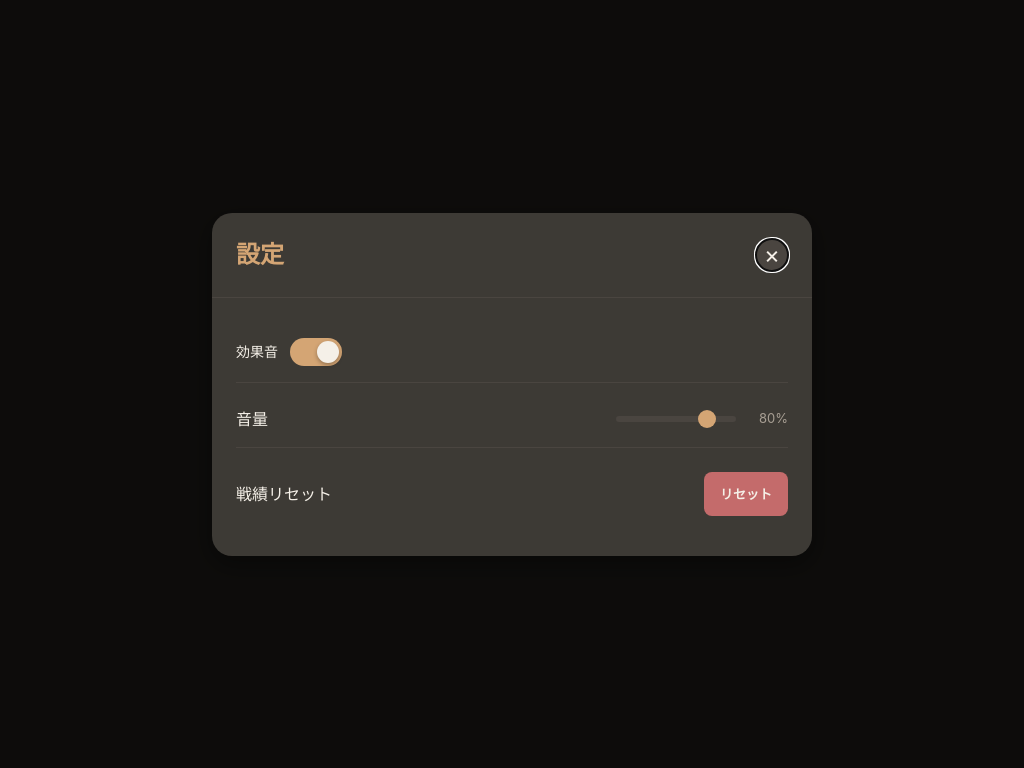
Test: SettingsModal › Volume Slider › is disabled when sound is off
Click the switch: (316, 352) [290,338,342,366]
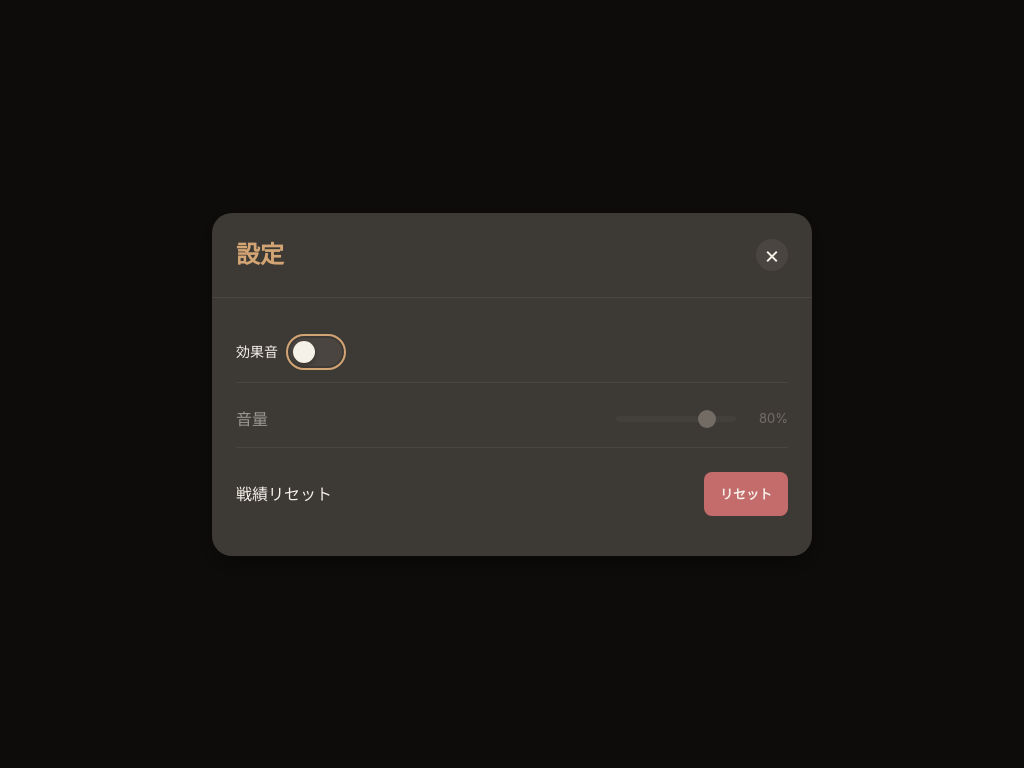
expect the slider is disabled: met, box [616,416,736,422]
